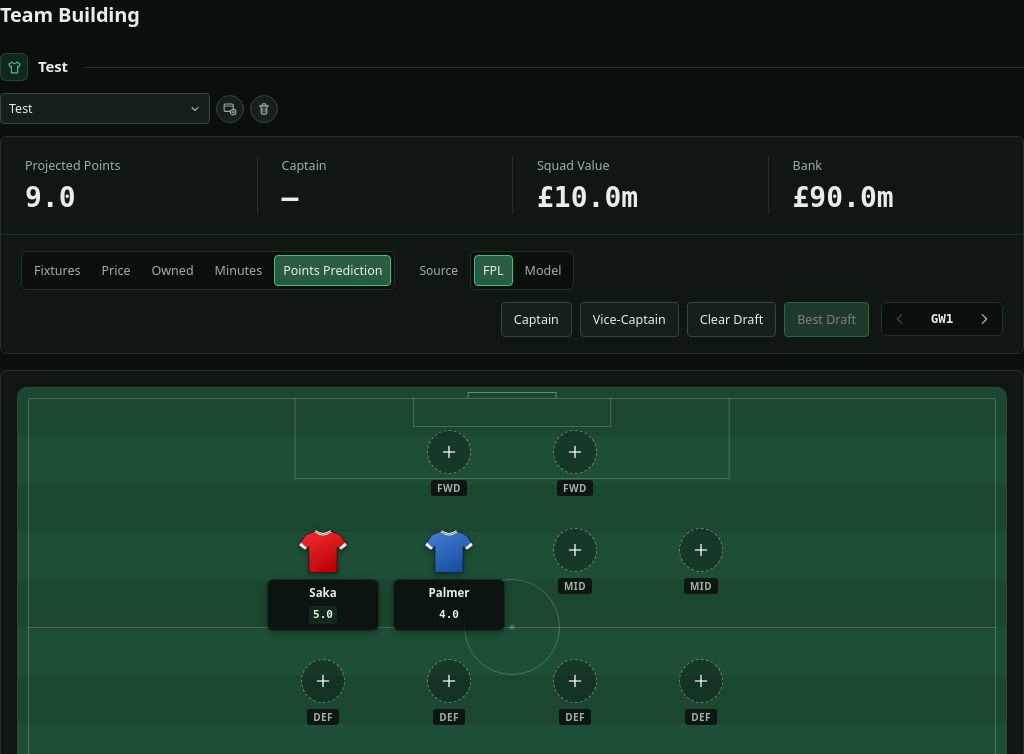
Test: Team Building — gameweeks › <points_horizon> an Exp. Pts column adds up as many gameweeks as its header picks, a blank counting 0; the pitch stays where its arrows are
This screenshot has width=1024, height=754.
Click the 1st button "MID": click(575, 578) left=519, top=524, right=631, bottom=631
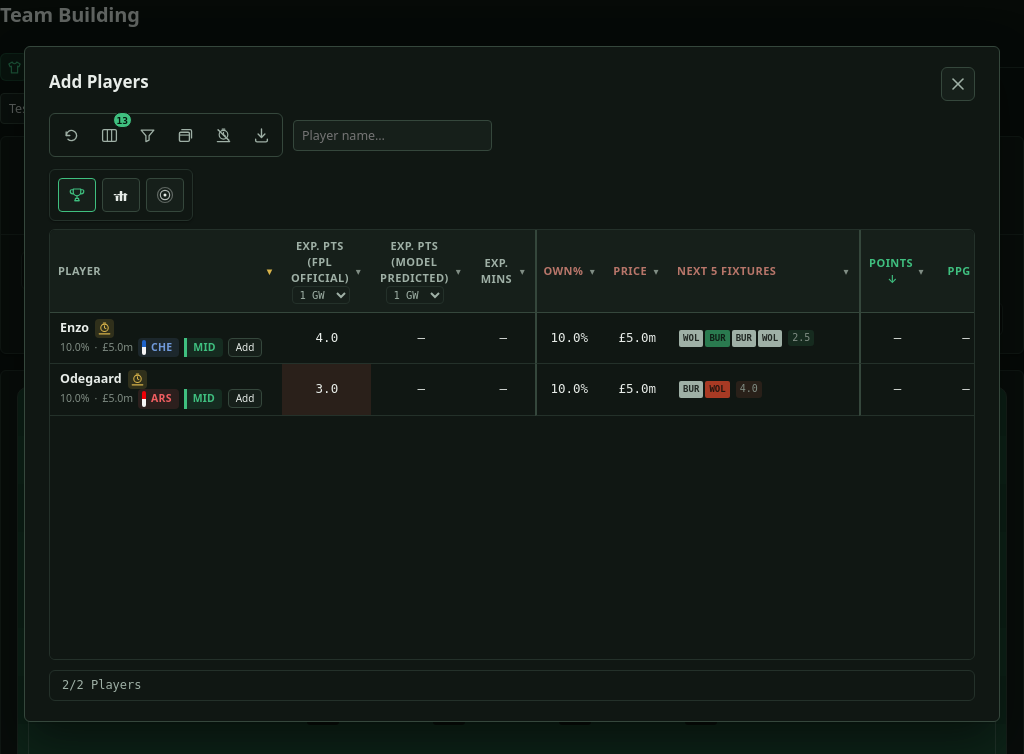
Expected: the cell "4.0" is shown, left=282, top=313, right=371, bottom=364
Expected: the cell "3.0" is shown, left=282, top=364, right=371, bottom=416
Select "3 GWs" in the 1st dropdown with class "horizon-picker": (321, 295) left=292, top=286, right=350, bottom=304
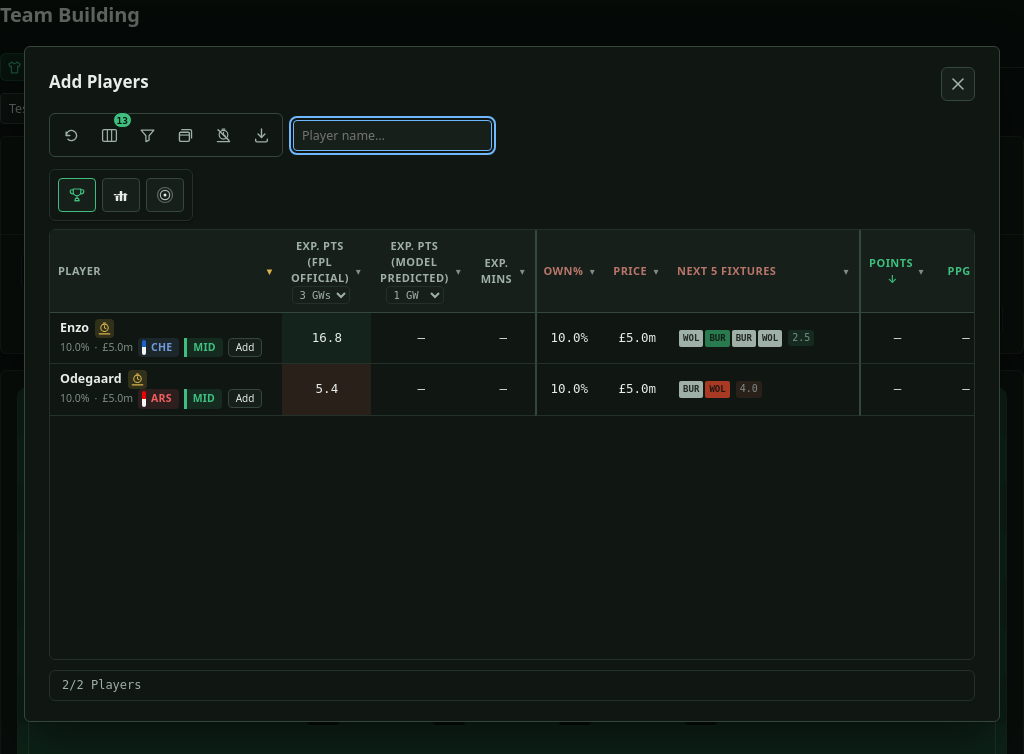
Expected: the text with class "gameweek-arrows-value" reads "GW1", left=931, top=311, right=953, bottom=326
Expected: the cell "16.8" is shown, left=282, top=313, right=371, bottom=364
Expected: the cell "5.4" is shown, left=282, top=364, right=371, bottom=416
